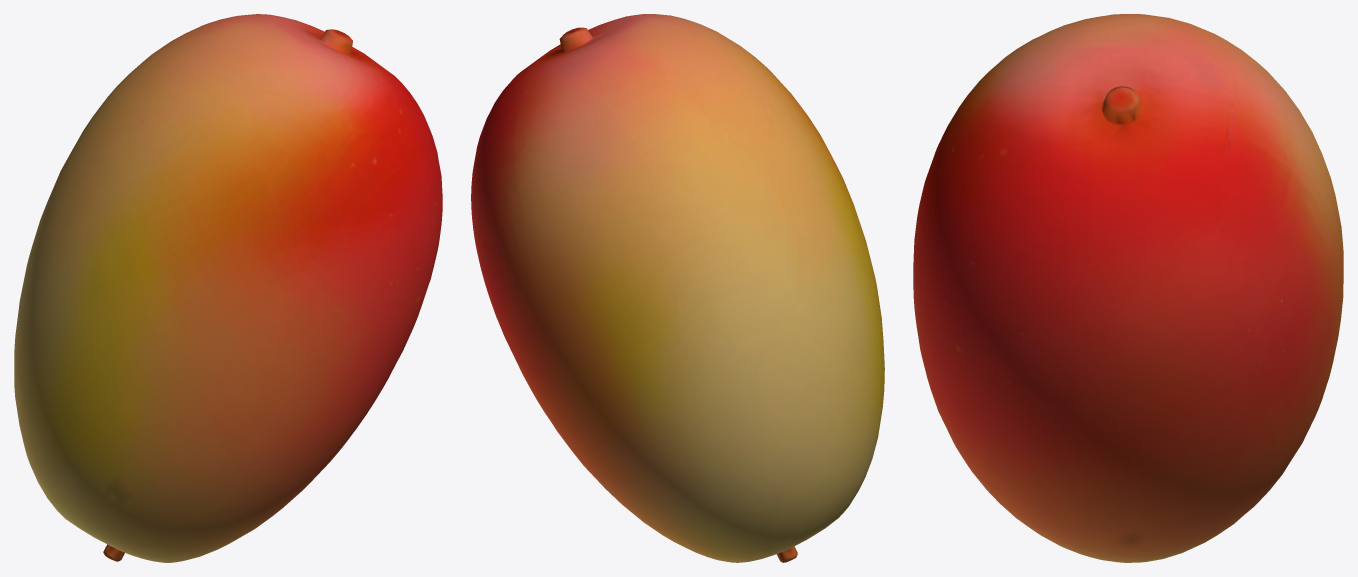
The model's file is mango.glb.
3 views of the same model, side by side, from view 1: azimuth 30°, elevation 25°; view 2: azimuth 150°, elevation 25°; view 3: azimuth 270°, elevation 25° (orthographic). The views are drawn at different scales.
Visible parts, largest first — view 1: material; view 2: material; view 3: material.
Boxes of the visible parts, box(x1,y1,x2,y2) form: material: box(14, 14, 442, 562); material: box(471, 14, 884, 562); material: box(913, 14, 1343, 562).
Size of the model in its own units: 0.8687 by 1.1 by 0.7504.
Materials: 1 (1 with a texture image).
